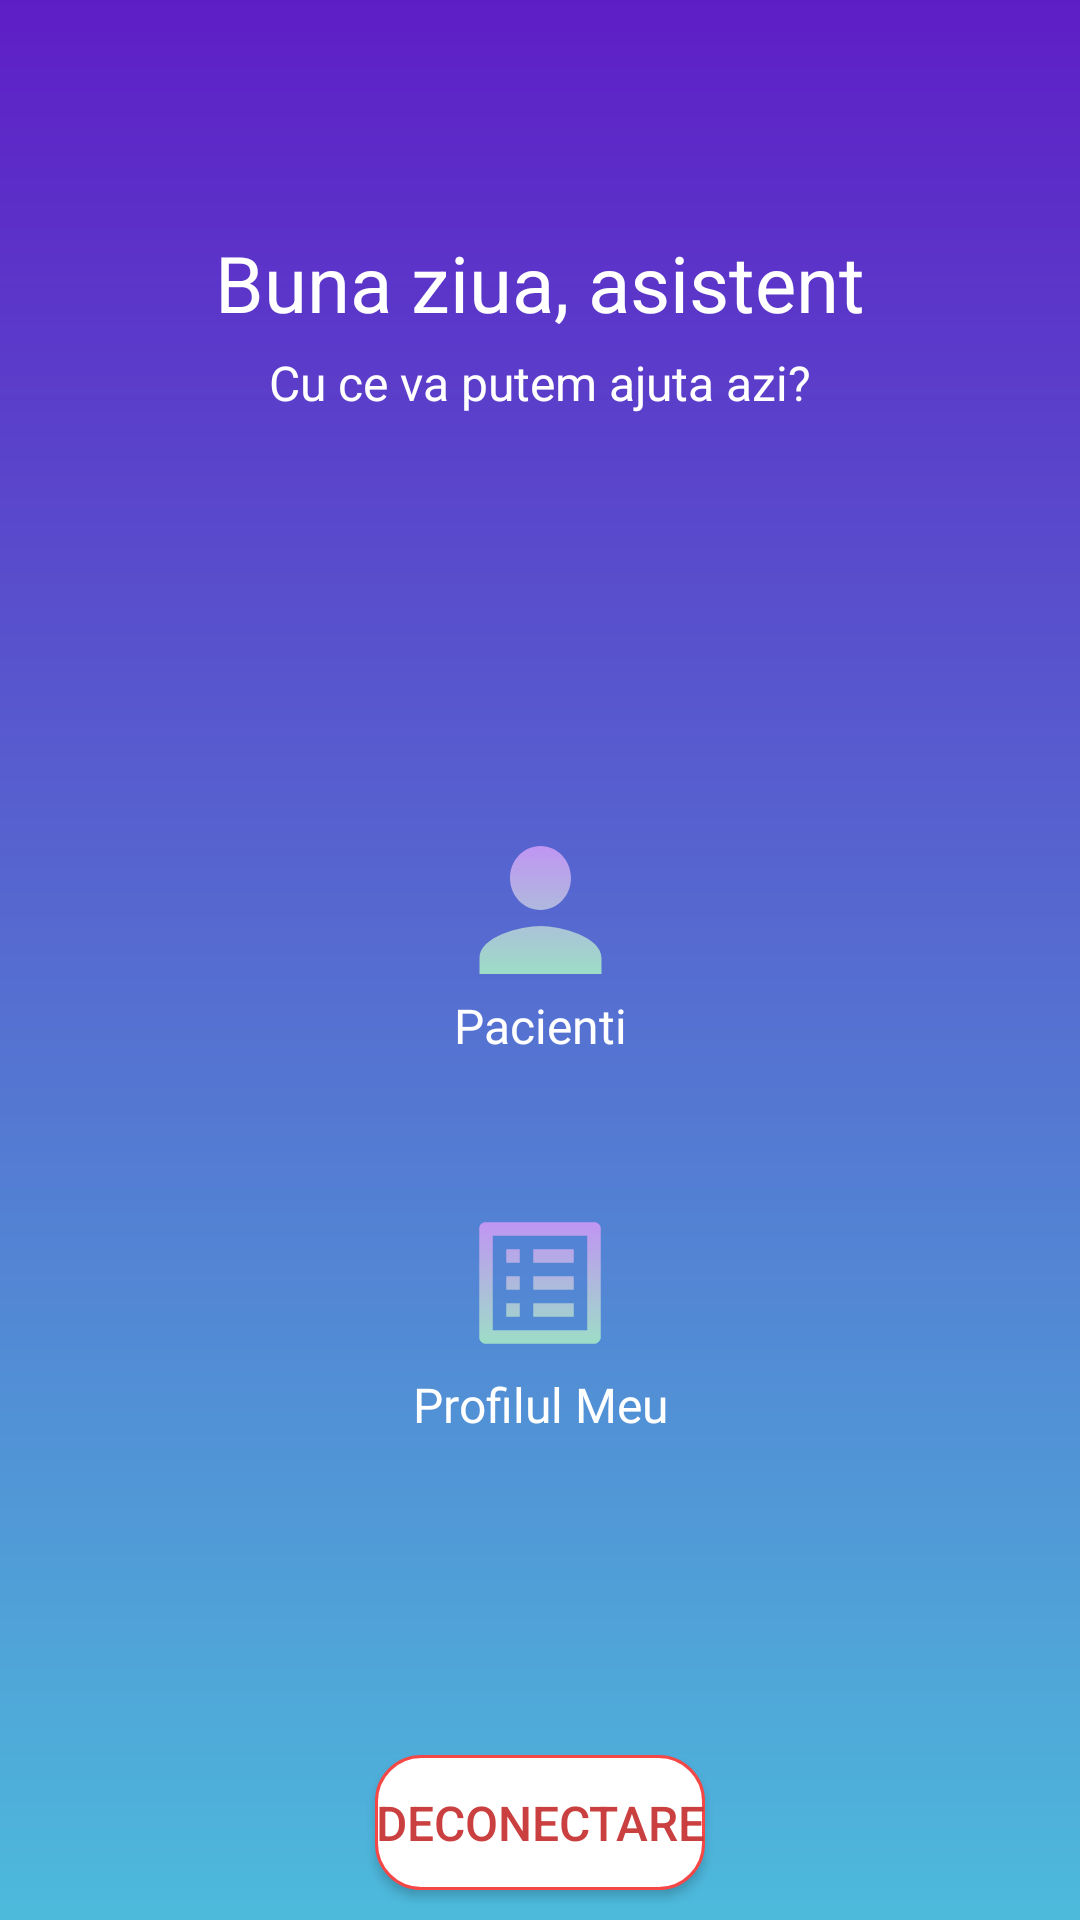

Icon click points for this 1080x1920 phone screenshot, format (x,y):
person: (540,910)
